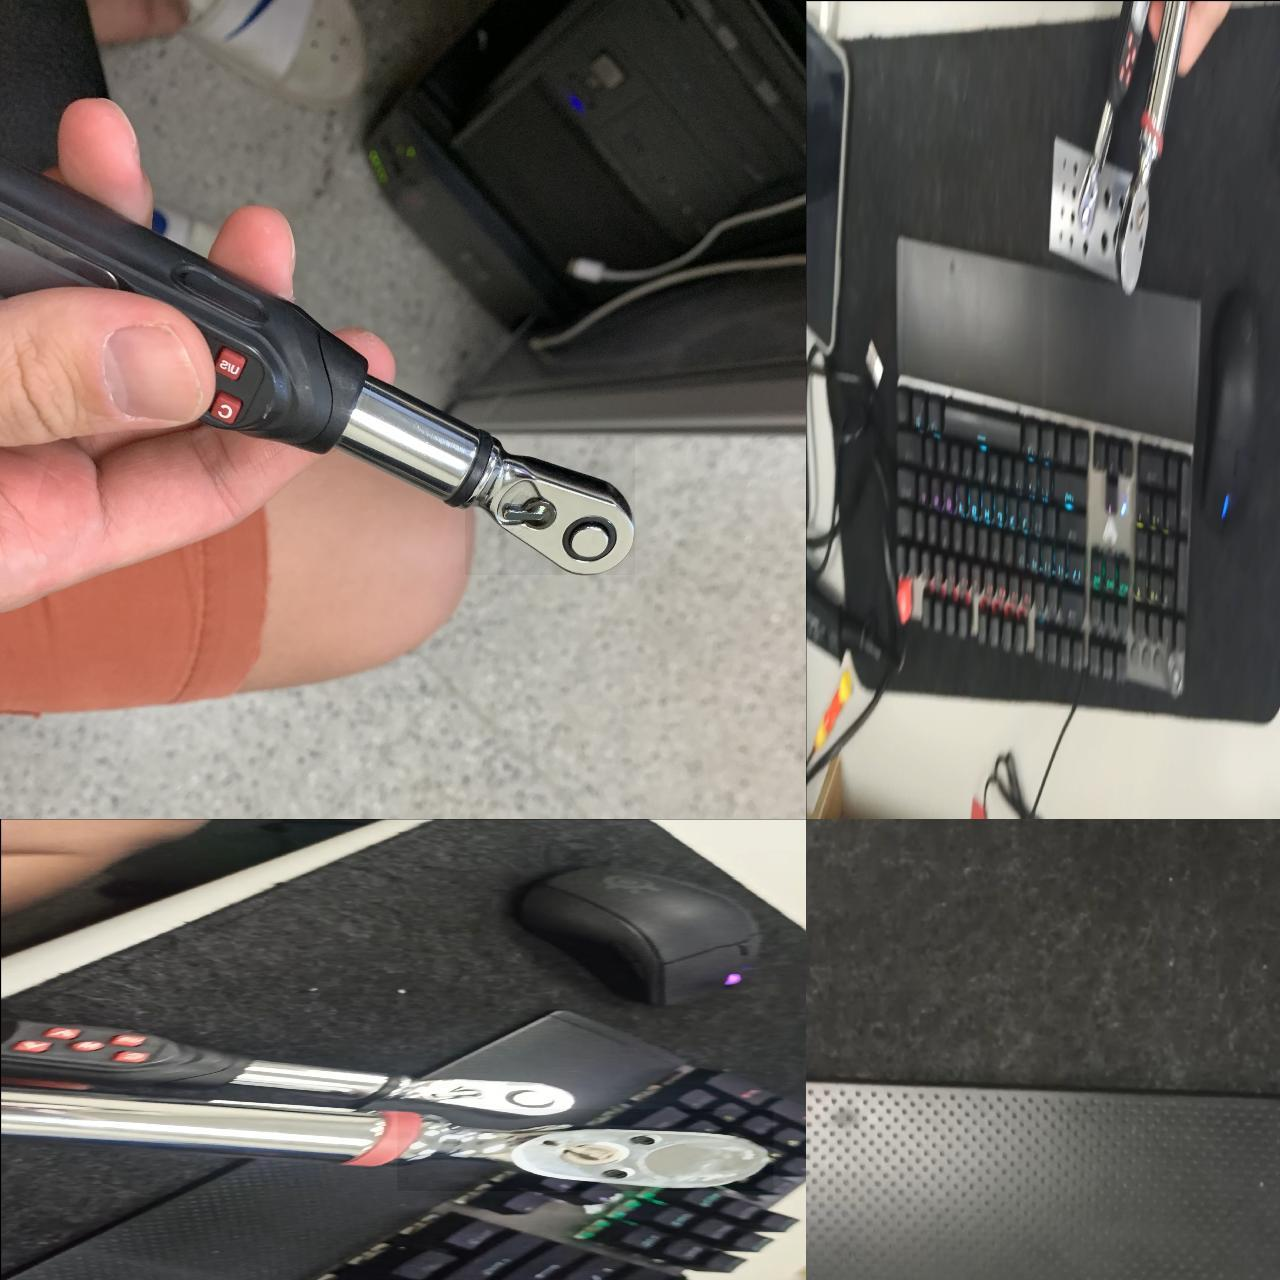Tool: (396, 1109, 772, 1191), (464, 436, 634, 574), (388, 1074, 577, 1115)
